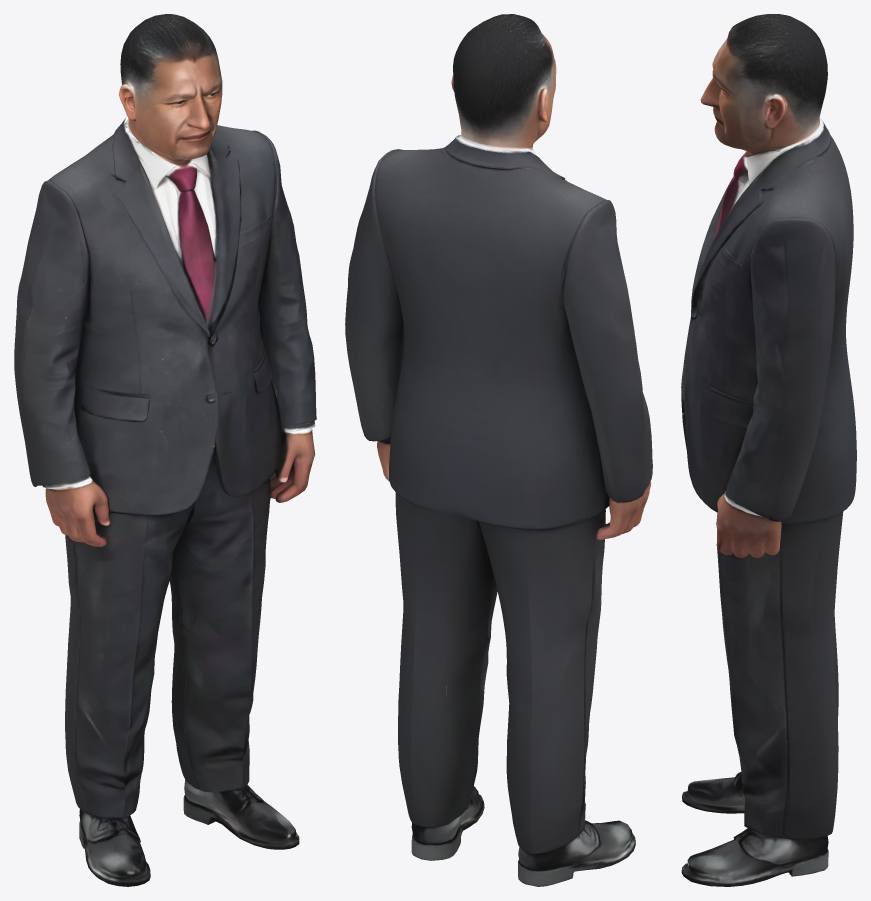
Rendered from abogado2_hombre.glb.
The picture shows the model from 3 angles, left to right: view 1: azimuth 30°, elevation 25°; view 2: azimuth 150°, elevation 25°; view 3: azimuth 270°, elevation 25°; orthographic projection.
Parts seen in each view (by area): view 1: model; view 2: model; view 3: model.
Part boxes in pixels (x1,y1,x2,y2): model: (14,14,316,886); model: (345,14,652,886); model: (681,14,856,886).
Bounding box in the file's own units: 0.363 × 1 × 0.1931.
1 material, 1 textured.
